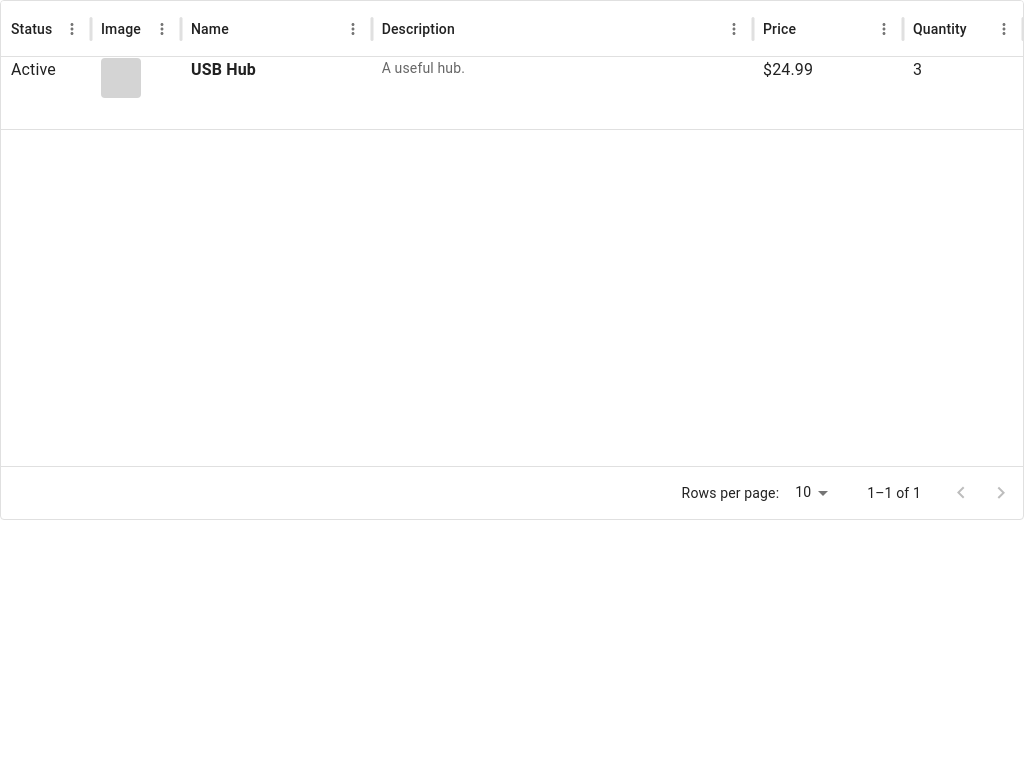
it: coverage edges › removes a listing after deleting it from the listings table
What coordinates should you click on to do the following:
click the text "USB Hub"
I would click on:
 (223, 70)
Its box is [191,60,256,79].
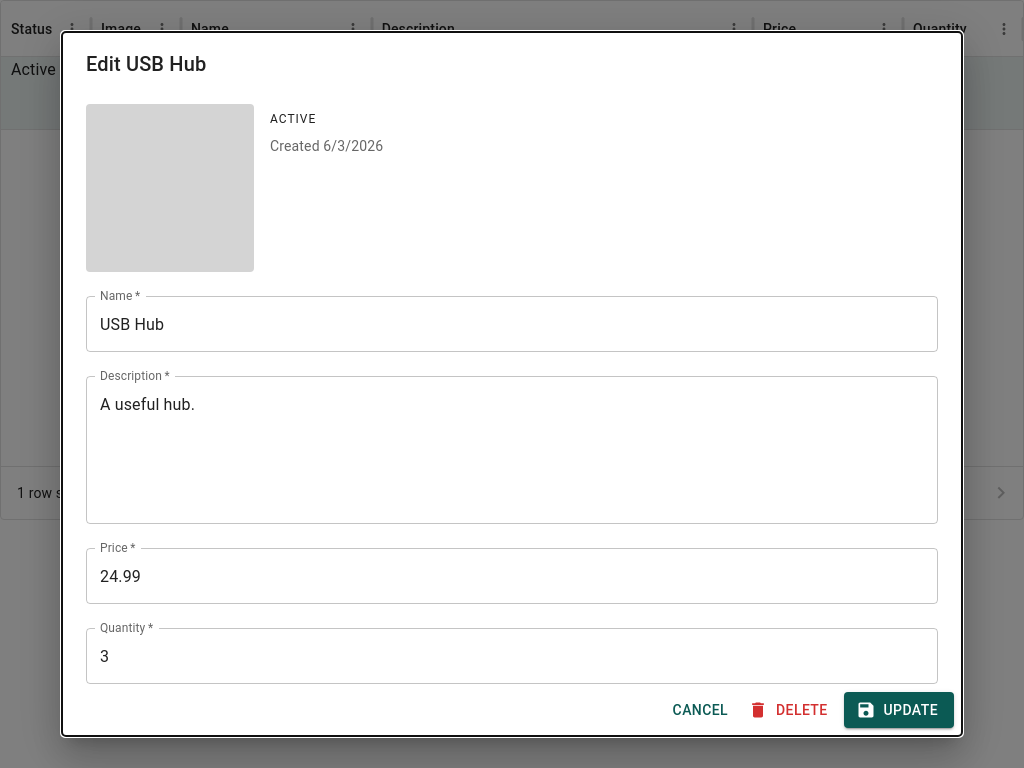
What coordinates should you click on to do the following:
click the button with aria-label "Delete USB Hub"
I would click on:
 (790, 710)
Its box is [744,692,836,728].
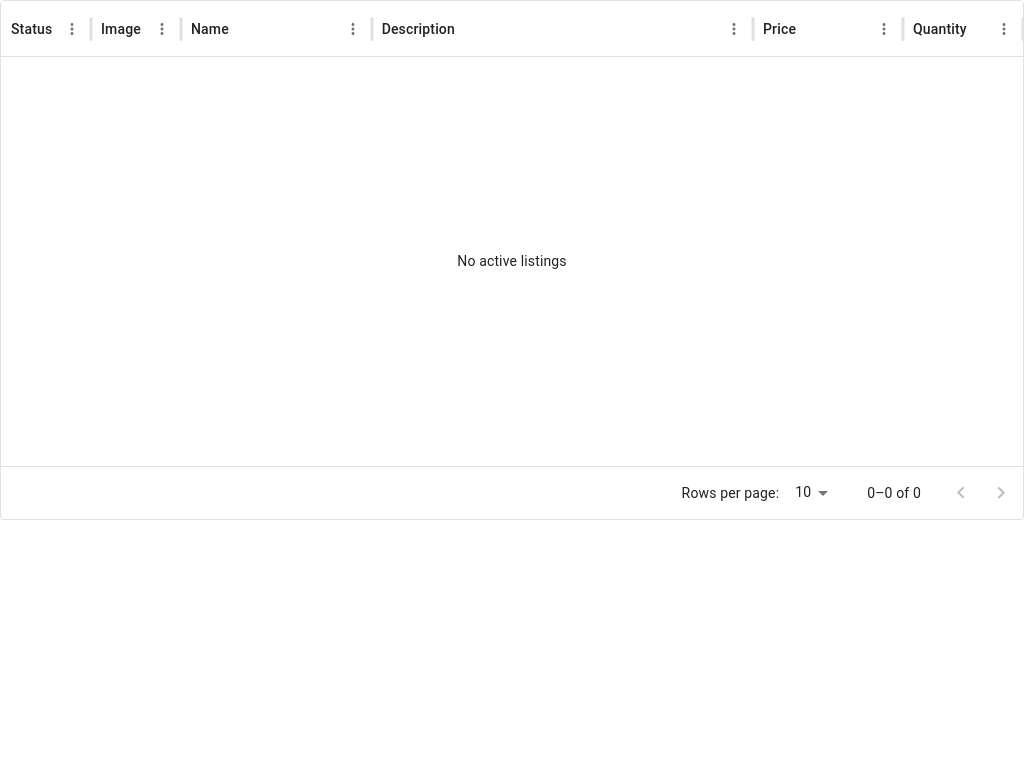
Check: the text "USB Hub" is gone
